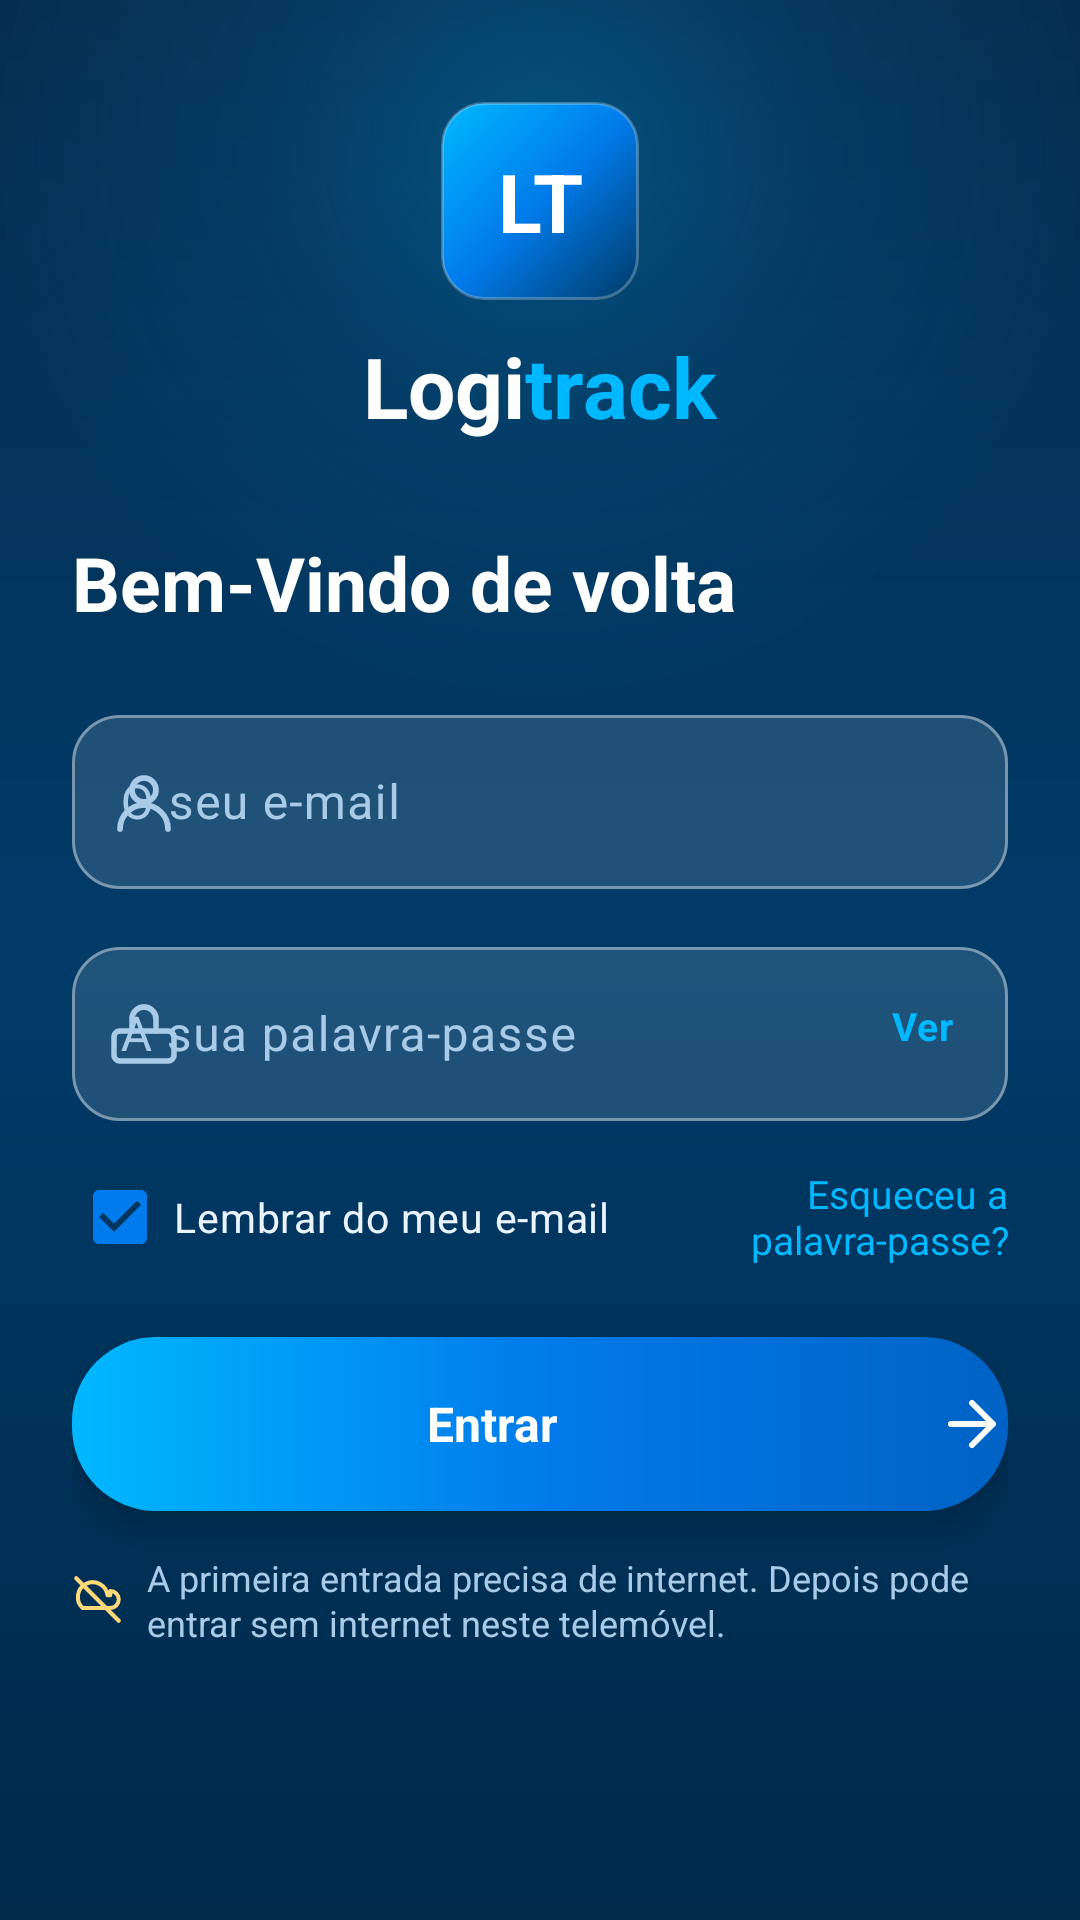

Icon click points for this 1080px x 1920px phone screenshot, format (x=x, y=y):
cloud off: (x=97, y=1599)
